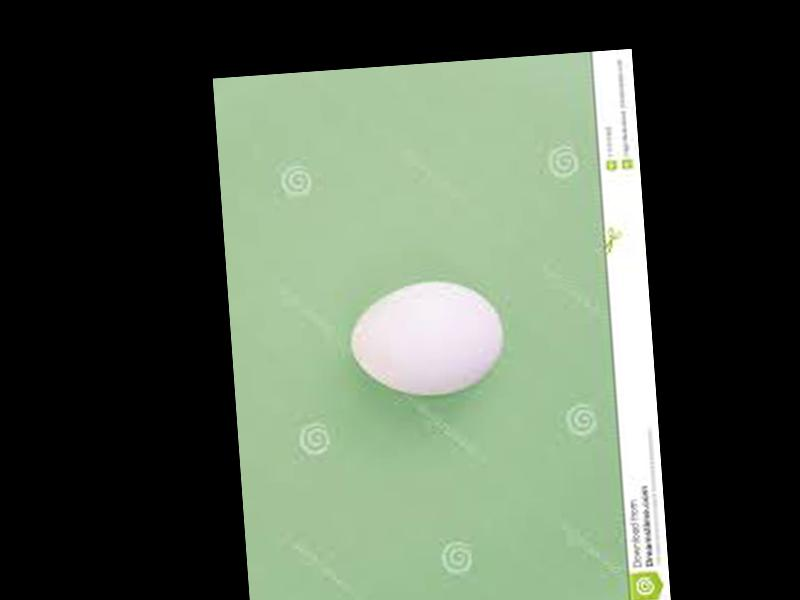Eggs: (349, 279, 506, 401)
